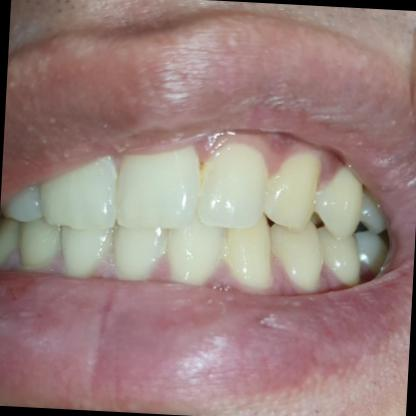Healthy: (111, 216, 273, 291)
